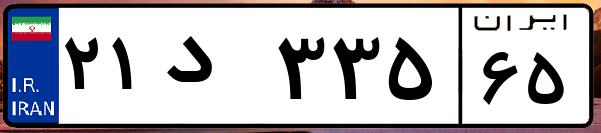1: (110, 28, 158, 98)
2: (57, 26, 110, 100)
3: (270, 28, 330, 110), (330, 28, 385, 110)
5: (385, 28, 445, 110), (525, 38, 570, 115)
6: (475, 38, 525, 113)
د: (158, 20, 270, 120)
